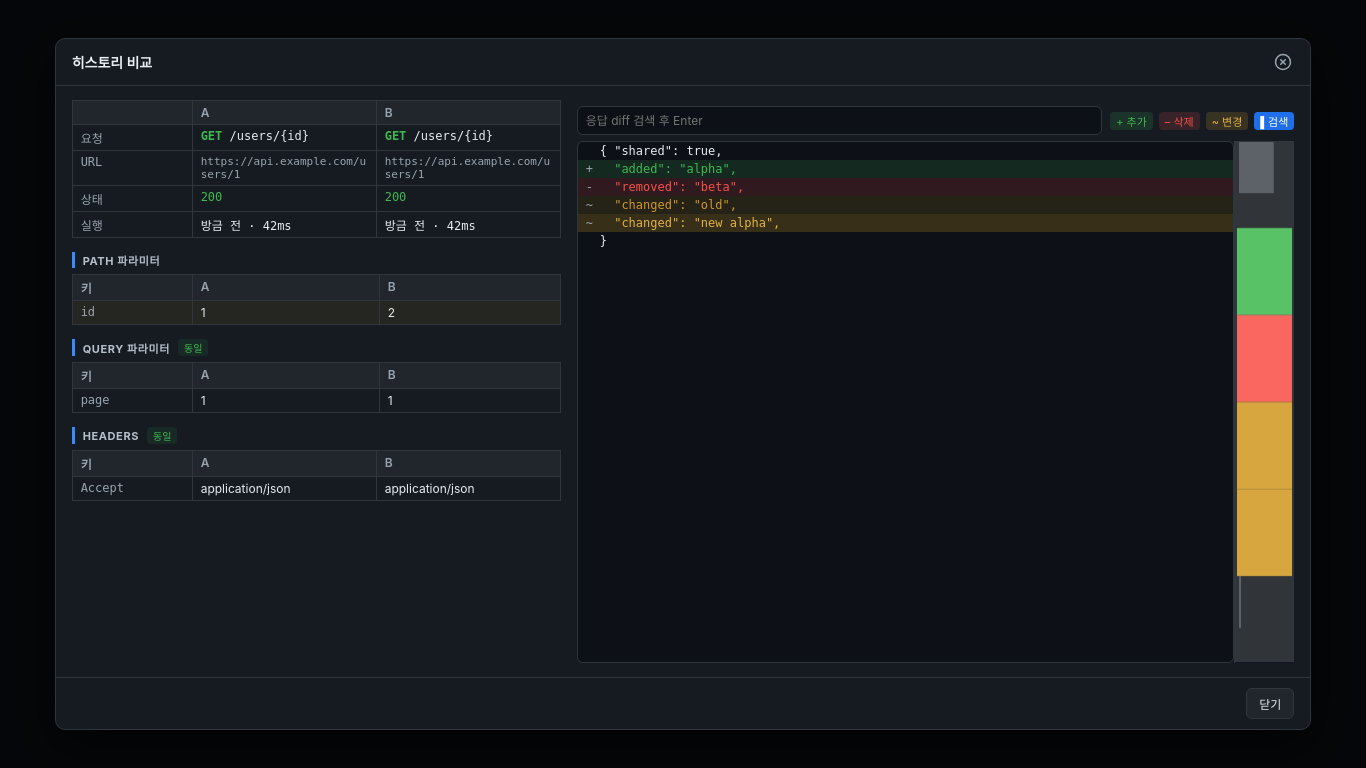
Test: CompareModal 매치 내비게이션/스크롤 › Enter 반복 시 다음 매치로 순환한다
This screenshot has width=1366, height=768.
Type "alpha" into the field with class "search" at (839, 121), box [577,106,1102,135]
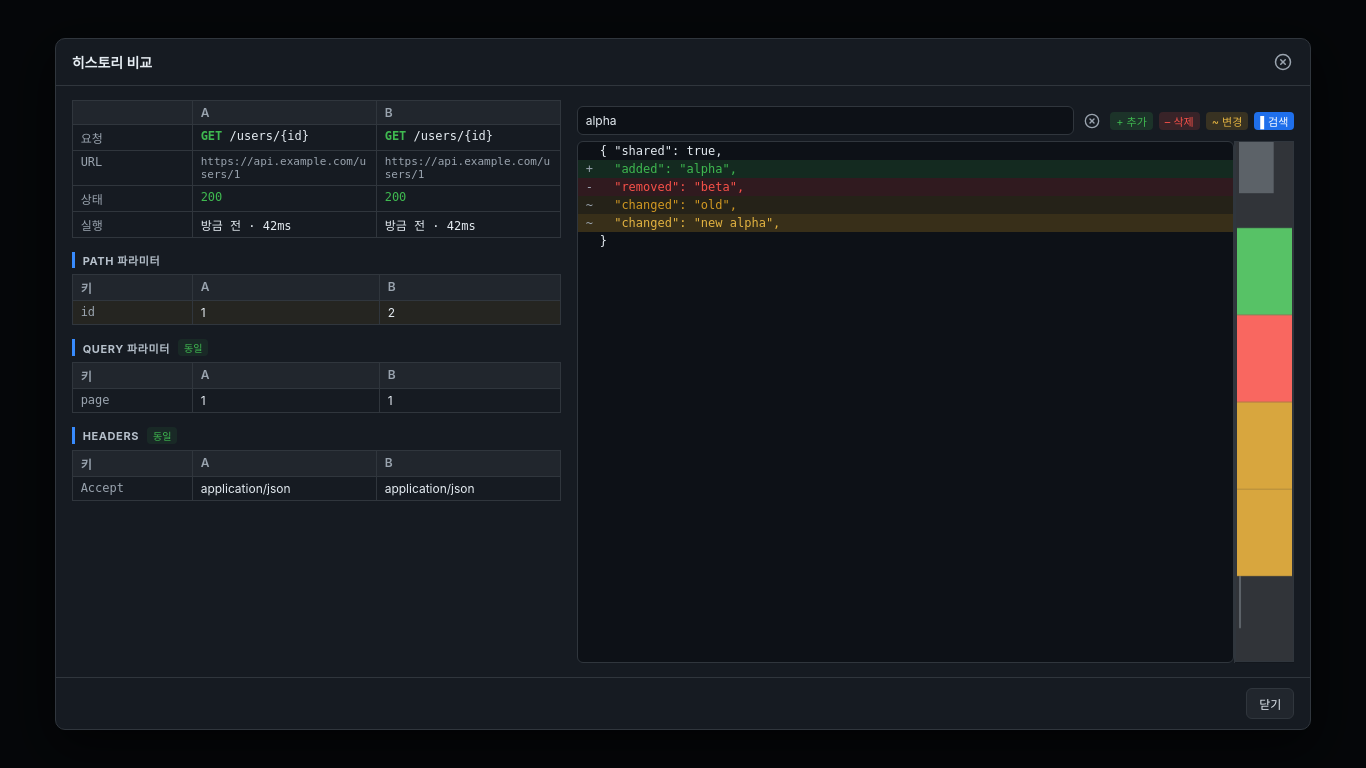
Press Enter in the field with class "search", box [577,106,1074,135]
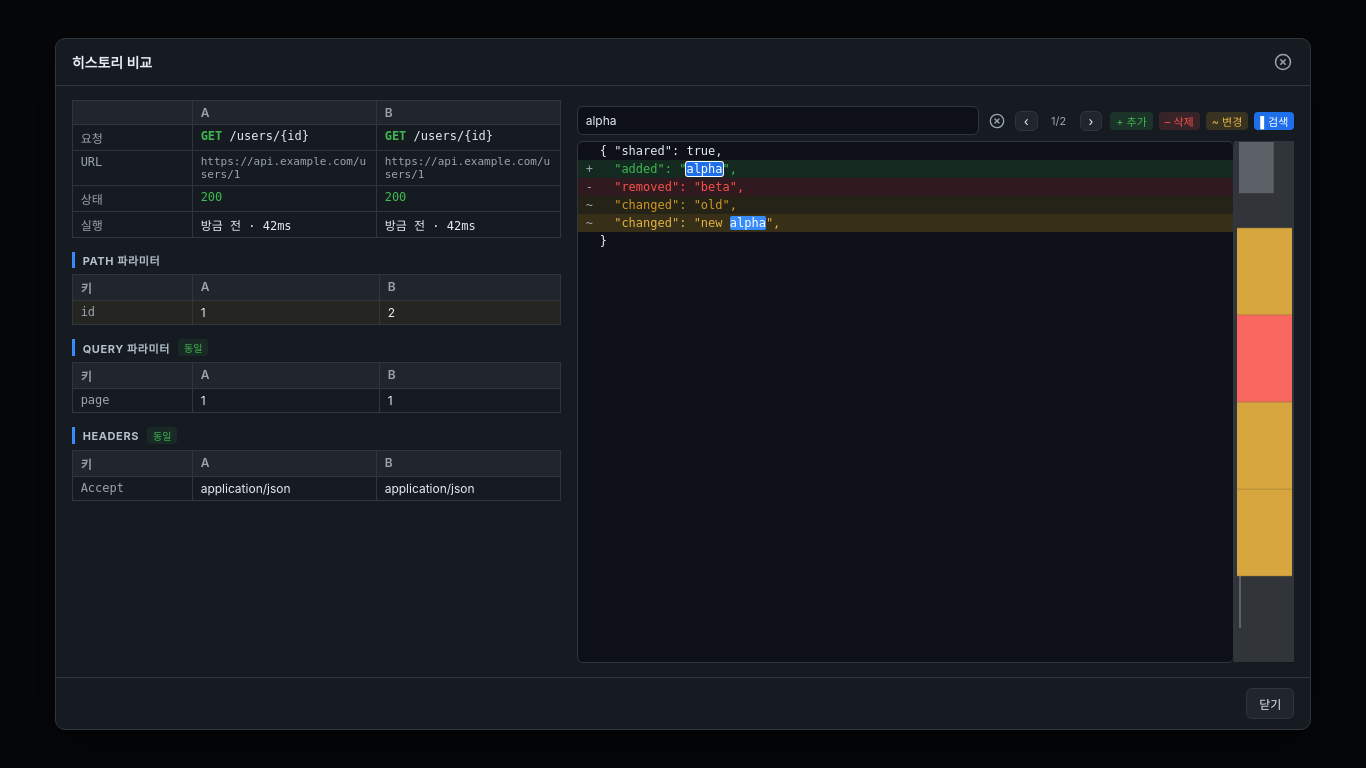
Press Enter in the field with class "search", box [577,106,979,135]
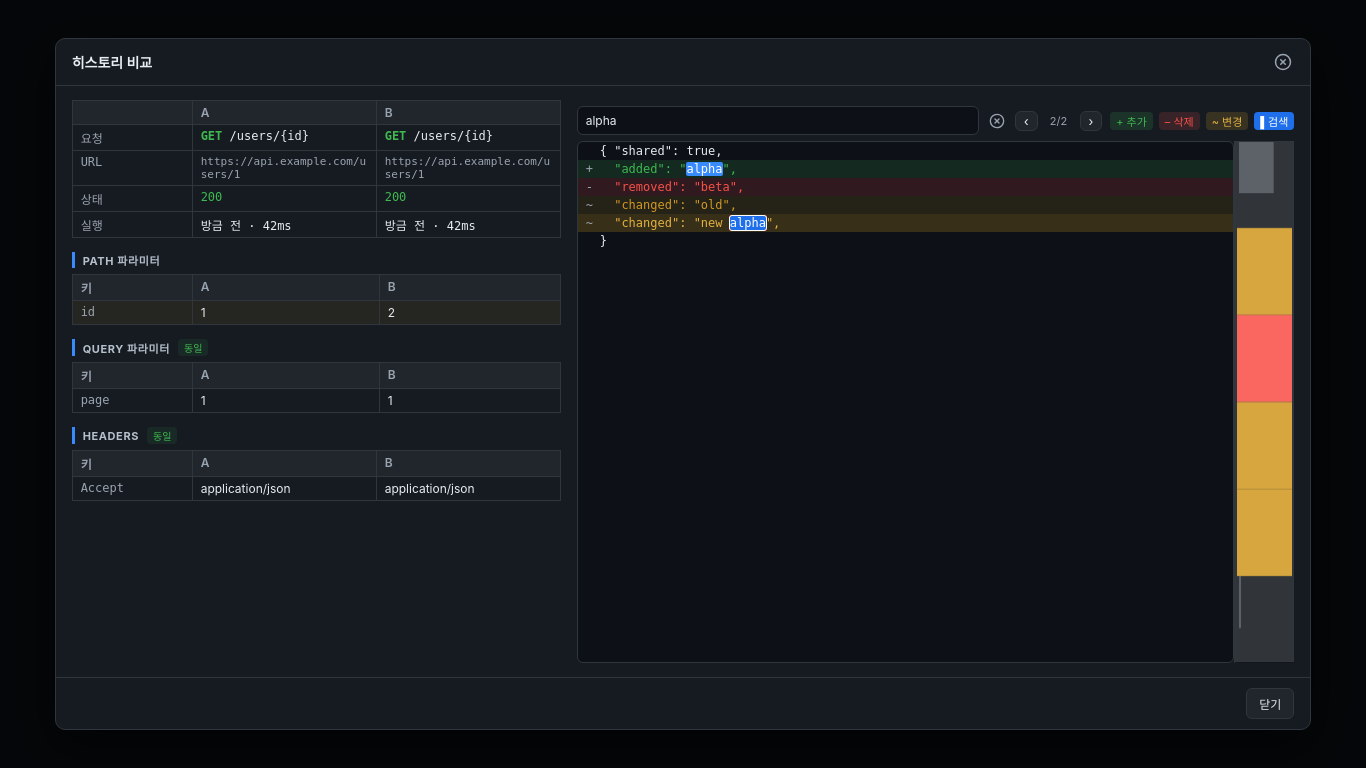
Expected: the text "2/2" is shown, [1050,114,1067,128]
